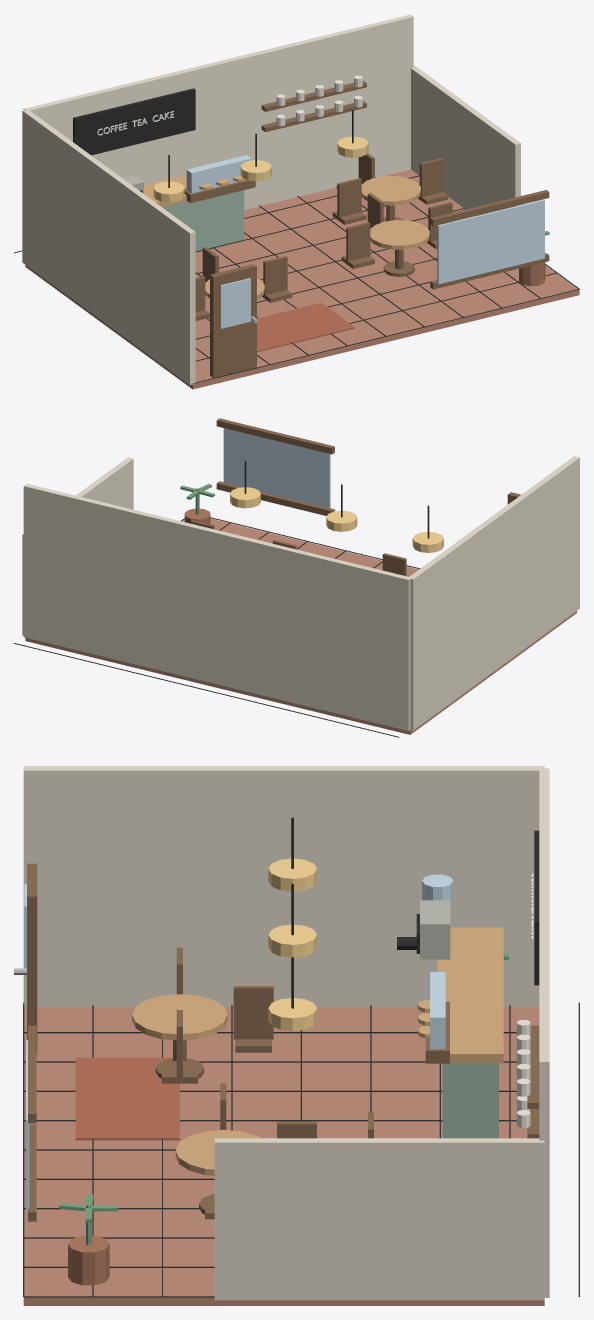
File: low_poly_cafe.glb
3 views of the same model, one above another, from view 1: azimuth 30°, elevation 25°; view 2: azimuth 150°, elevation 25°; view 3: azimuth 270°, elevation 25° (orthographic). The views are drawn at different scales.
Parts seen in each view (by area): view 1: back_wall_cream, left_wall_cream, floor_terracotta_tiles, right_half_wall_cream, front_window_glass, menu_board_black, entry_door_wood, service_counter_sage, front_rug, table_1_top, table_3_top, entry_door_glass (+15 smaller); view 2: back_wall_cream, left_wall_cream, front_window_glass, floor_terracotta_tiles, right_half_wall_cream, front_window_frame_top, front_window_frame_bottom, tile_groove_y_3.4, pendant_shade_1, pendant_shade_2, pendant_shade_3, chair_2_1_back; view 3: left_wall_cream, floor_terracotta_tiles, right_half_wall_cream, front_rug, counter_wood_top, back_wall_cream, service_counter_sage, table_2_top, chair_2_3_back, plant_pot_2, entry_door_wood, espresso_machine_body (+13 smaller).
Boxes of the visible parts, x1,y1,x2,y2 form: back_wall_cream: [23, 14, 413, 209]; left_wall_cream: [22, 110, 195, 384]; floor_terracotta_tiles: [25, 169, 579, 389]; right_half_wall_cream: [411, 65, 520, 216]; front_window_glass: [437, 199, 544, 284]; menu_board_black: [73, 88, 195, 155]; entry_door_wood: [210, 264, 256, 377]; service_counter_sage: [162, 190, 244, 251]; front_rug: [257, 303, 354, 352]; table_1_top: [370, 220, 429, 249]; table_3_top: [361, 176, 420, 205]; entry_door_glass: [220, 278, 250, 328]; back_wall_cream: [23, 483, 411, 730]; left_wall_cream: [408, 456, 579, 730]; front_window_glass: [223, 428, 330, 508]; floor_terracotta_tiles: [25, 518, 576, 734]; right_half_wall_cream: [22, 457, 133, 635]; front_window_frame_top: [216, 418, 334, 454]; front_window_frame_bottom: [216, 481, 334, 515]; tile_groove_y_3.4: [14, 643, 399, 737]; pendant_shade_1: [412, 532, 443, 552]; pendant_shade_2: [326, 510, 357, 531]; pendant_shade_3: [230, 487, 260, 508]; chair_2_1_back: [382, 553, 406, 576]; left_wall_cream: [23, 766, 544, 1006]; floor_terracotta_tiles: [23, 1006, 544, 1305]; right_half_wall_cream: [214, 1138, 544, 1300]; front_rug: [75, 1057, 179, 1140]; counter_wood_top: [437, 927, 503, 1063]; back_wall_cream: [539, 768, 549, 1297]; service_counter_sage: [442, 1063, 498, 1138]; table_2_top: [132, 994, 227, 1040]; chair_2_3_back: [233, 986, 273, 1039]; plant_pot_2: [68, 1235, 109, 1285]; entry_door_wood: [27, 863, 37, 1053]; espresso_machine_body: [420, 900, 450, 959].
Size of the model in its own units: 8.12 by 3.1 by 6.52.
